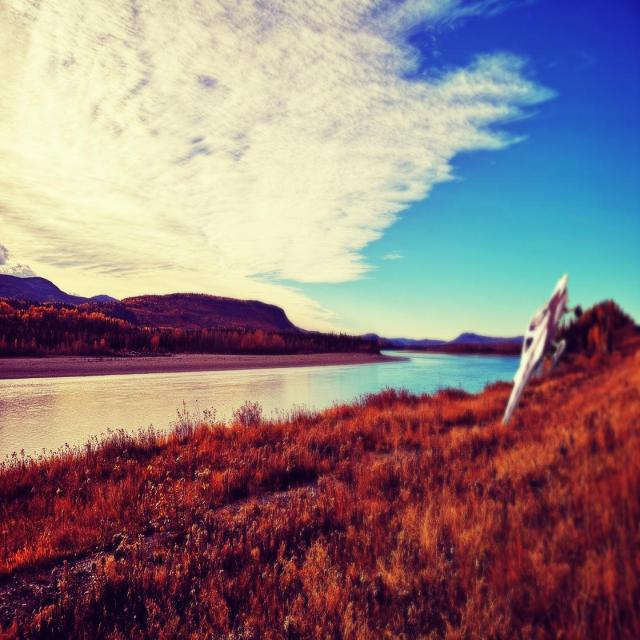airplane: (501, 273, 571, 426)
